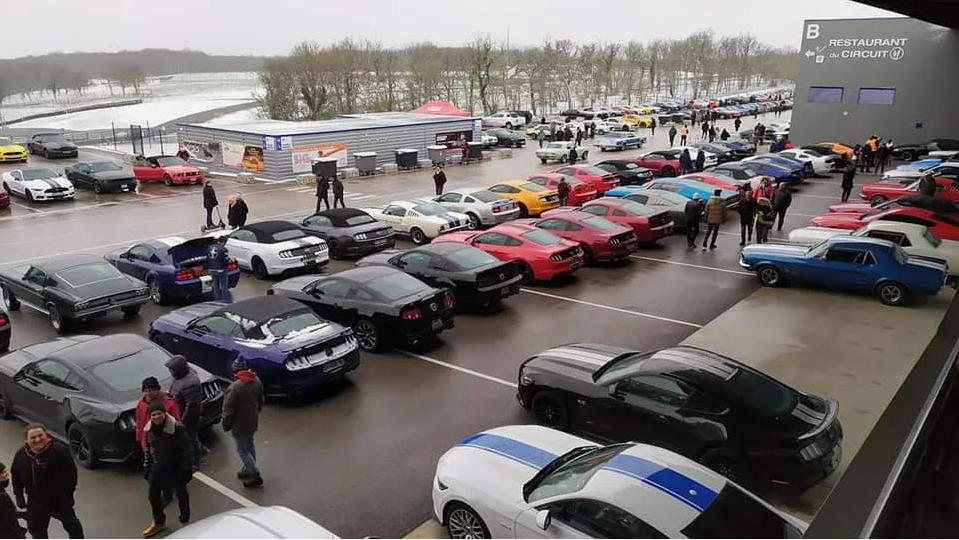Car: (517, 343, 844, 494), (431, 424, 807, 540), (0, 333, 227, 468), (148, 295, 361, 397), (268, 266, 454, 352), (739, 235, 948, 306), (0, 254, 149, 334), (361, 242, 523, 312), (786, 221, 959, 283), (106, 236, 241, 305), (434, 222, 585, 283), (209, 220, 330, 279), (512, 209, 638, 263), (544, 198, 674, 245), (164, 506, 338, 539), (809, 207, 959, 245), (299, 207, 395, 259), (364, 200, 471, 245), (608, 178, 739, 213), (430, 188, 521, 229), (608, 189, 688, 232), (828, 195, 959, 221), (860, 176, 959, 206), (488, 179, 560, 217), (0, 167, 76, 203), (64, 161, 138, 194), (133, 155, 207, 186), (529, 173, 597, 206), (555, 164, 620, 195), (735, 159, 805, 186), (706, 164, 779, 189), (596, 158, 653, 186), (892, 138, 959, 161), (780, 149, 834, 175), (27, 132, 79, 159), (635, 149, 682, 177), (884, 164, 959, 181), (764, 154, 815, 179), (682, 172, 741, 193), (801, 144, 847, 170), (536, 142, 590, 164), (596, 131, 646, 152), (740, 123, 789, 144), (673, 146, 718, 168), (0, 136, 29, 164), (697, 142, 737, 162), (482, 111, 526, 129), (487, 128, 526, 148), (0, 297, 13, 353), (526, 123, 566, 139), (820, 142, 855, 158), (716, 142, 753, 157), (583, 120, 610, 136), (605, 117, 635, 131), (623, 115, 654, 128), (563, 121, 588, 137), (0, 180, 12, 212), (563, 108, 594, 119), (477, 130, 499, 145), (659, 112, 691, 122), (710, 108, 740, 118), (511, 110, 533, 123), (583, 108, 610, 118), (599, 107, 621, 115), (624, 105, 643, 114), (727, 106, 744, 116), (635, 105, 652, 114), (663, 102, 682, 110), (736, 105, 752, 114), (654, 103, 672, 111), (612, 105, 626, 115), (646, 104, 660, 113), (620, 105, 633, 114)
